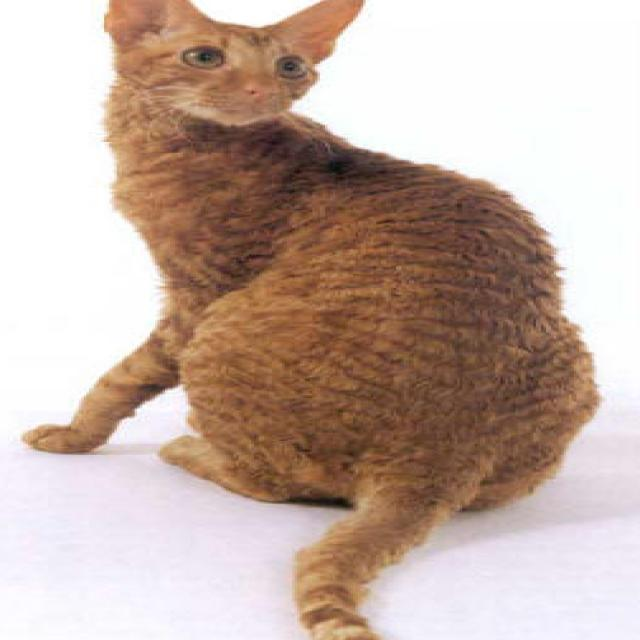Cornish Rex: (10, 0, 610, 640)
